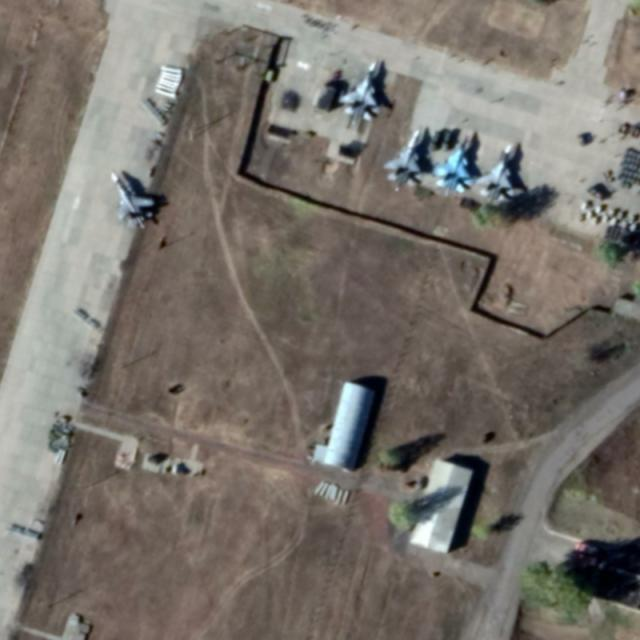fighter jet: (106, 171, 159, 229), (343, 57, 392, 119), (377, 128, 428, 182), (436, 125, 475, 190), (481, 141, 522, 198)
